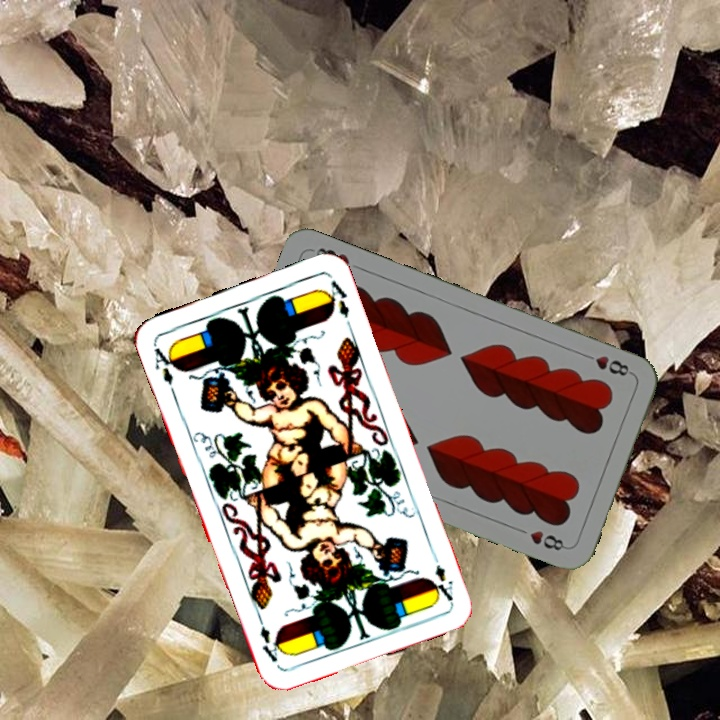EA: (427, 547, 456, 604), (149, 341, 181, 388)
H8: (578, 349, 635, 379)
